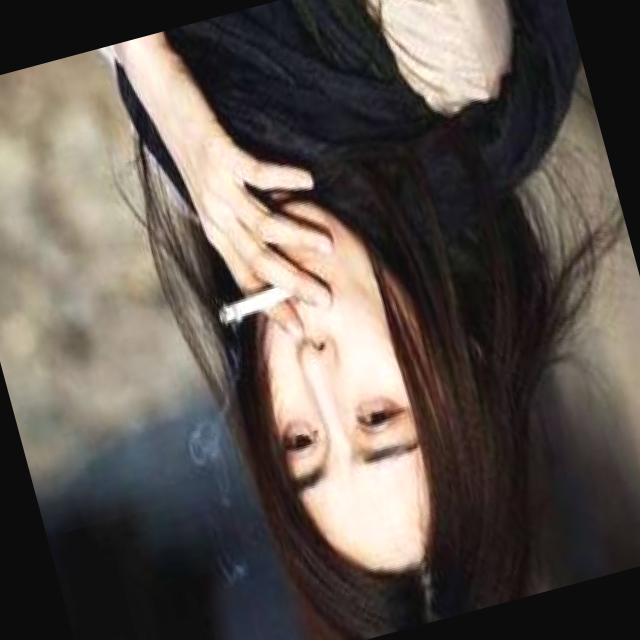cigarette: (214, 282, 293, 328)
